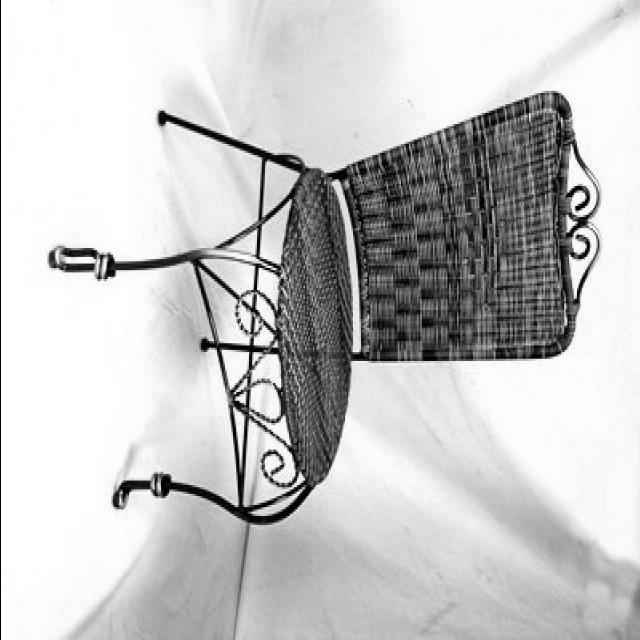chair: (53, 70, 602, 528)
